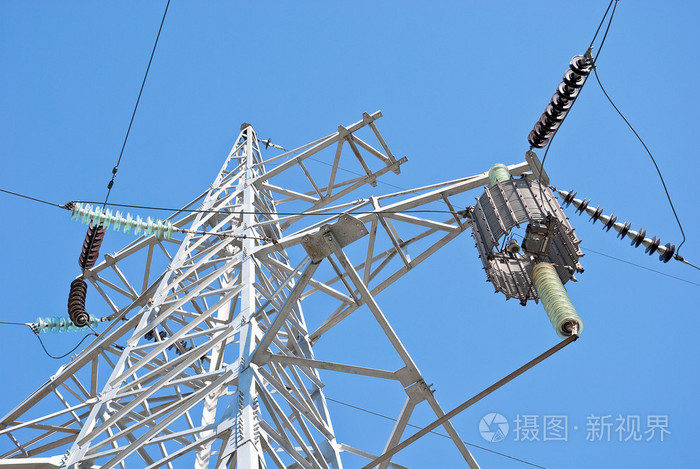insulator: (560, 190, 677, 265), (529, 56, 591, 149), (71, 202, 175, 242), (532, 261, 580, 334), (79, 222, 106, 267), (34, 315, 97, 333), (69, 278, 88, 328), (483, 163, 512, 186)
